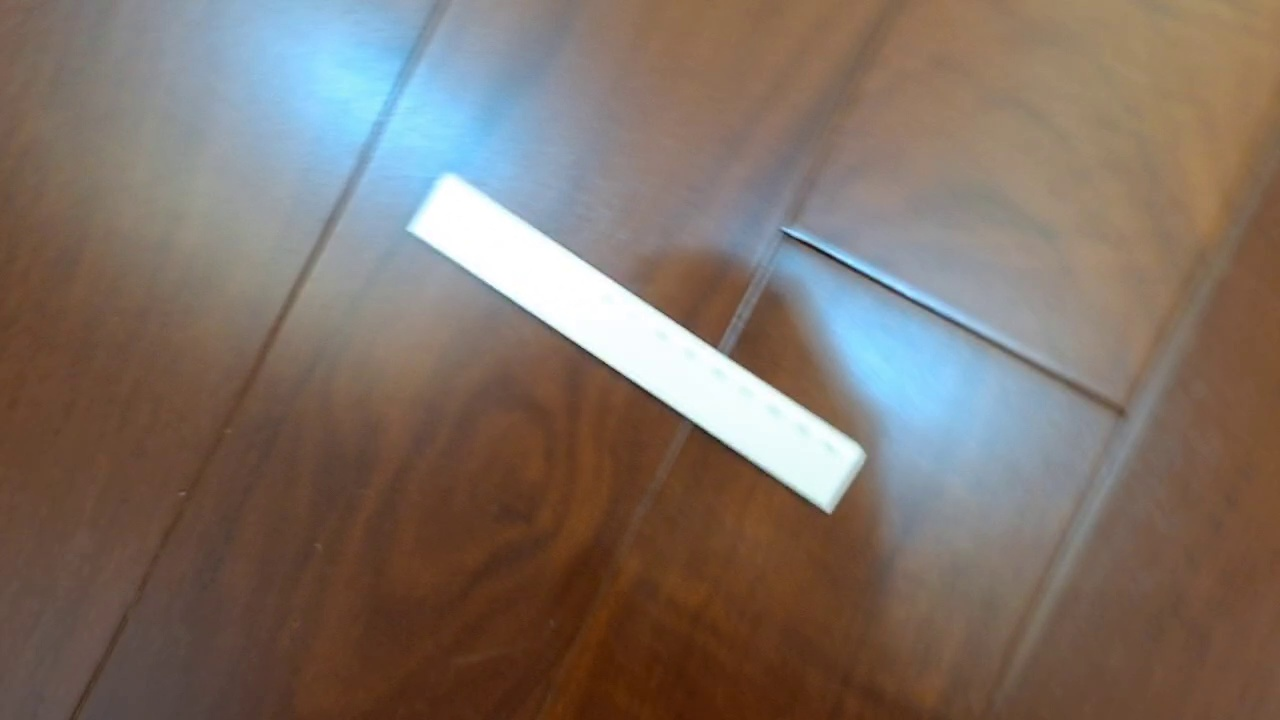ruler: (404, 168, 870, 517)
